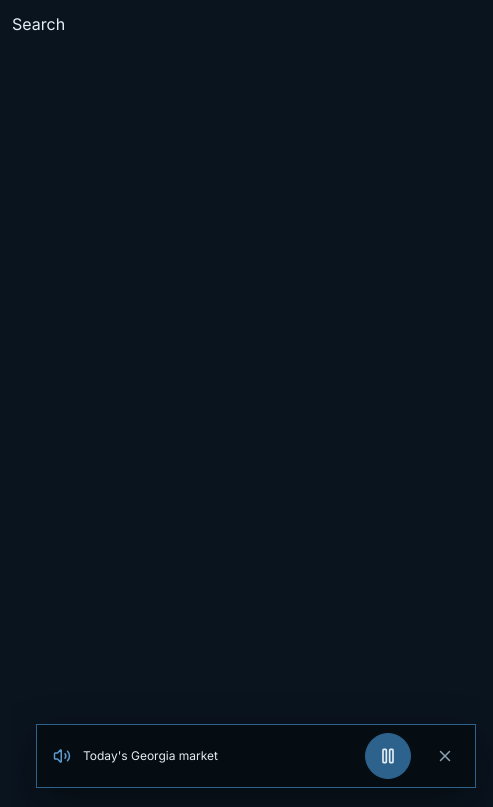
Test: the sound carries on when the visitor leaves the home page, until paused
The image size is (493, 807).
Note: Pause in the bar stops it there.
Click the button with class "mf-brief__play": (388, 756) [365, 733, 411, 779]
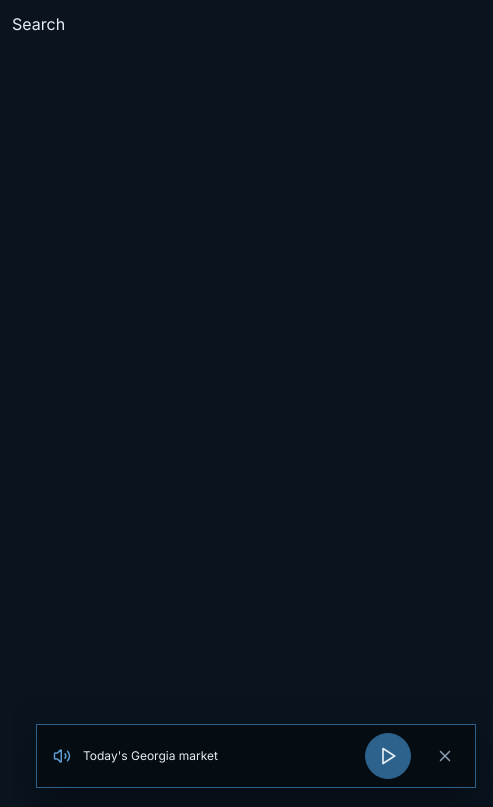
Expected: the button with class "mf-brief__play" has attribute aria-label="Play the welcome tour and market brief", [365, 733, 411, 779]
